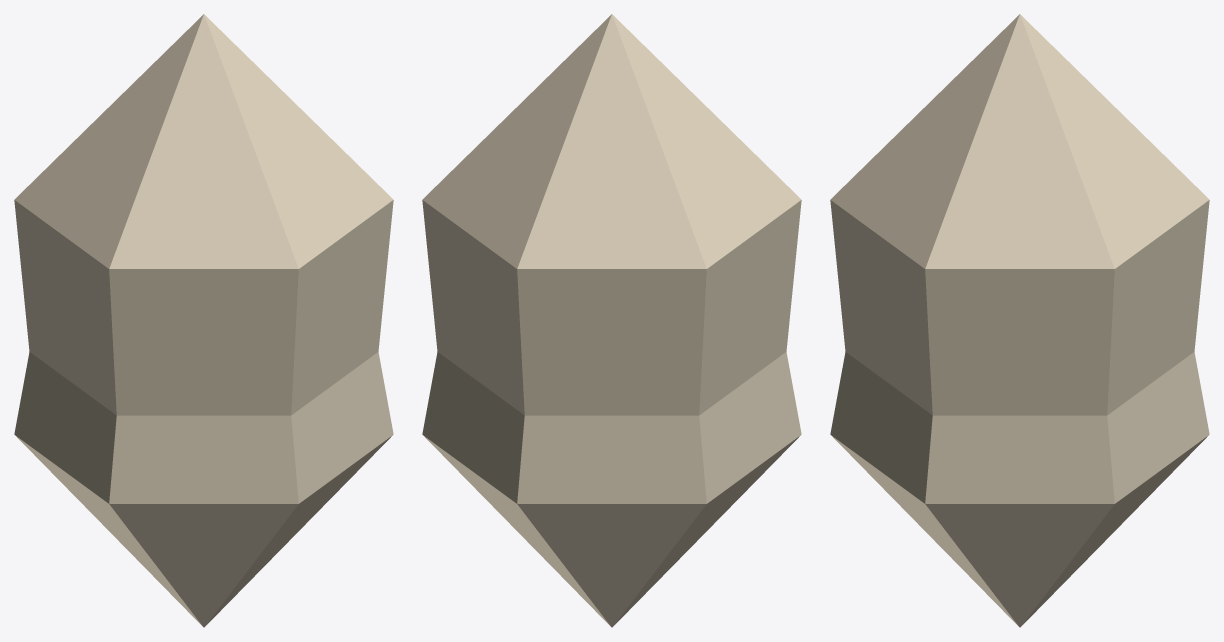
The model's file is relic.glb.
3 views of the same model, side by side, from view 1: azimuth 30°, elevation 25°; view 2: azimuth 150°, elevation 25°; view 3: azimuth 270°, elevation 25° (orthographic).
Visible parts, largest first — view 1: Gema; view 2: Gema; view 3: Gema.
Part boxes in pixels (box(x1,y1,x2,y2)): Gema: box(14, 14, 393, 627); Gema: box(422, 14, 801, 627); Gema: box(830, 14, 1209, 627).
Size of the model in its own units: 0.485 by 1 by 0.56.
